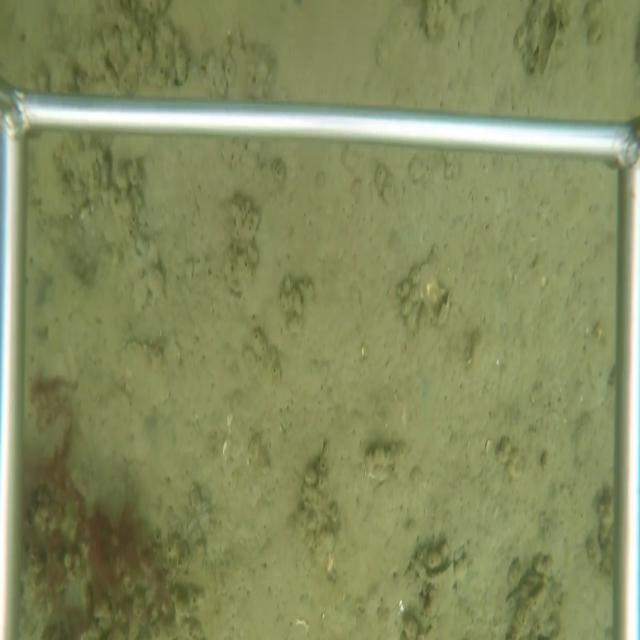Oyster-Closed: (541, 6, 563, 84), (420, 557, 454, 588)
Oyster-Indeterminate: (112, 332, 175, 424)
Oyster-Open: (433, 287, 453, 328)
